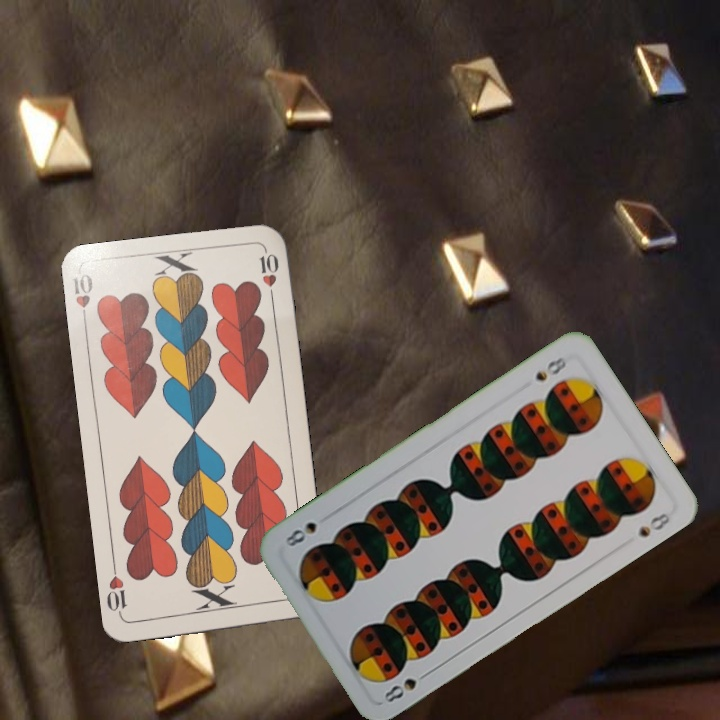H10: (69, 270, 96, 329)
S8: (380, 666, 433, 706), (530, 352, 571, 384)
